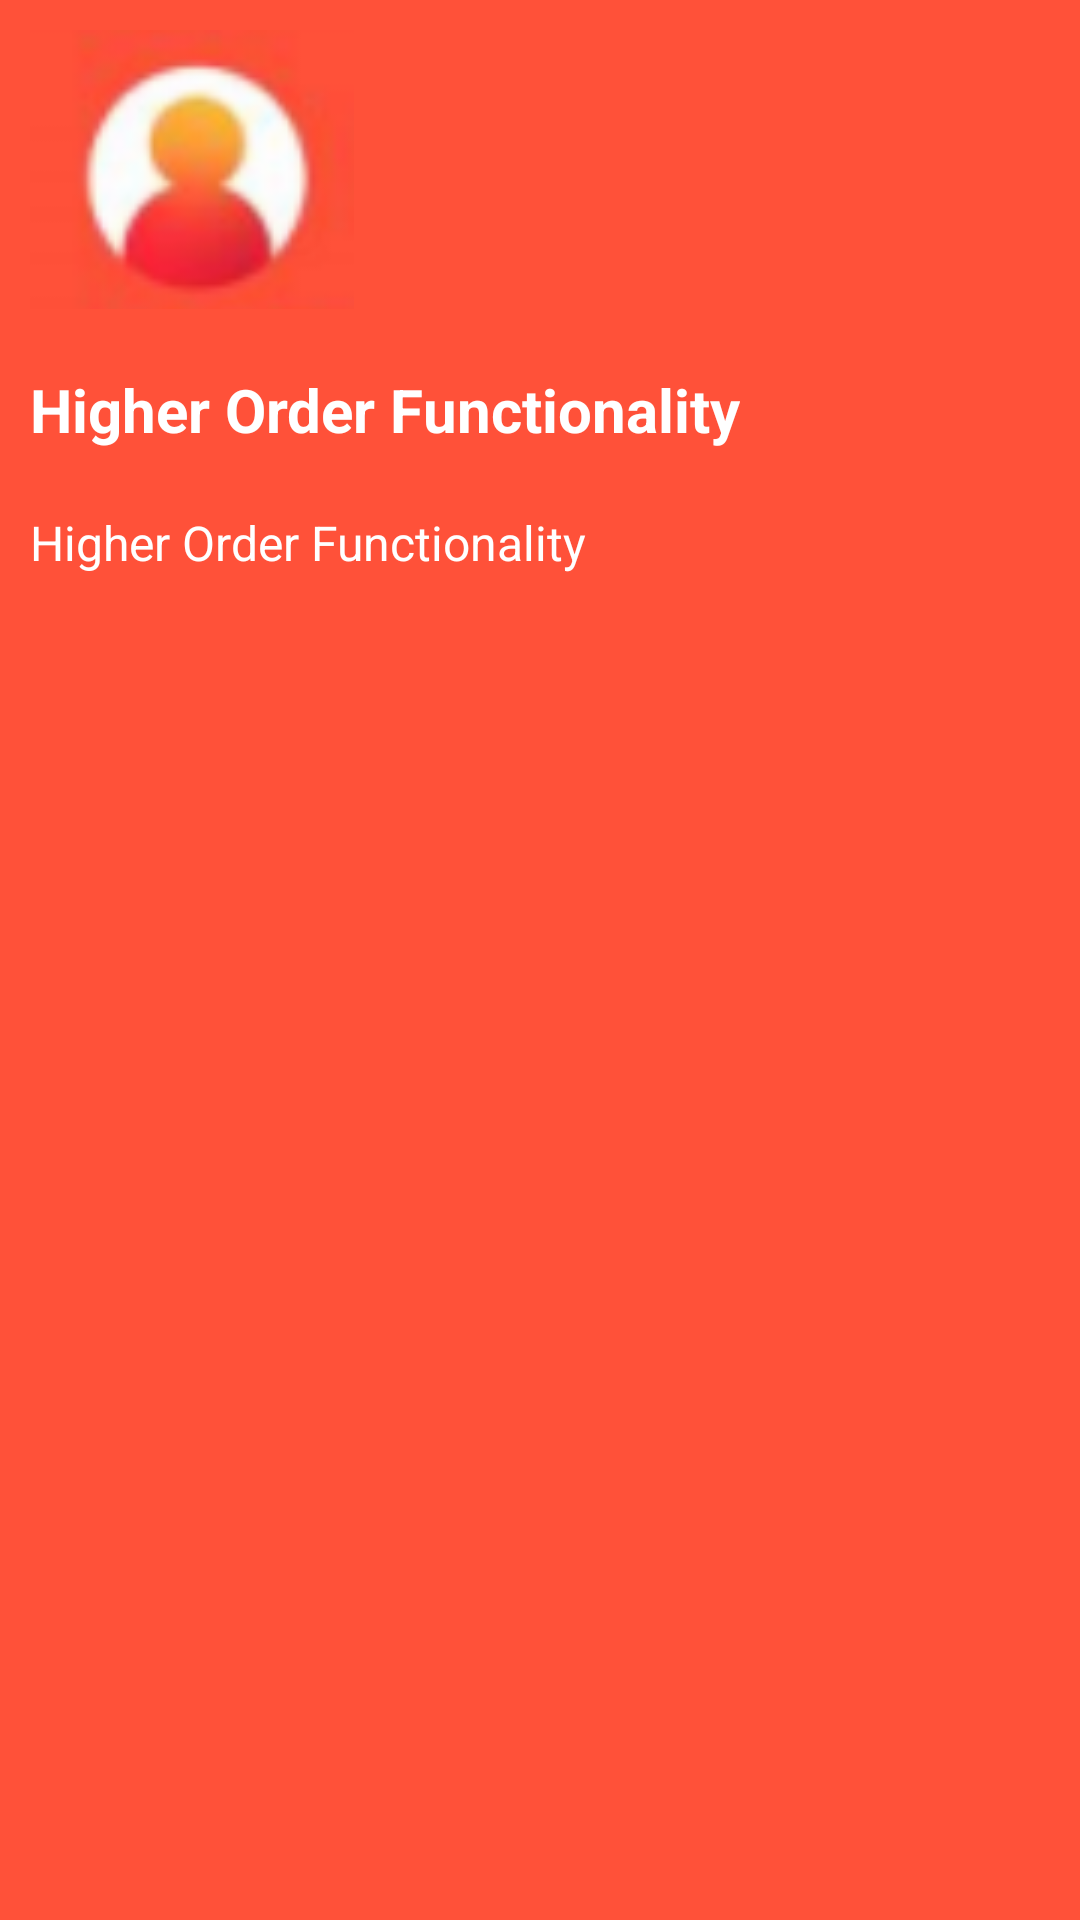

Named icons in this screenshot (1080×1920) and their centers, [x,y]:
profile: [196,175]
